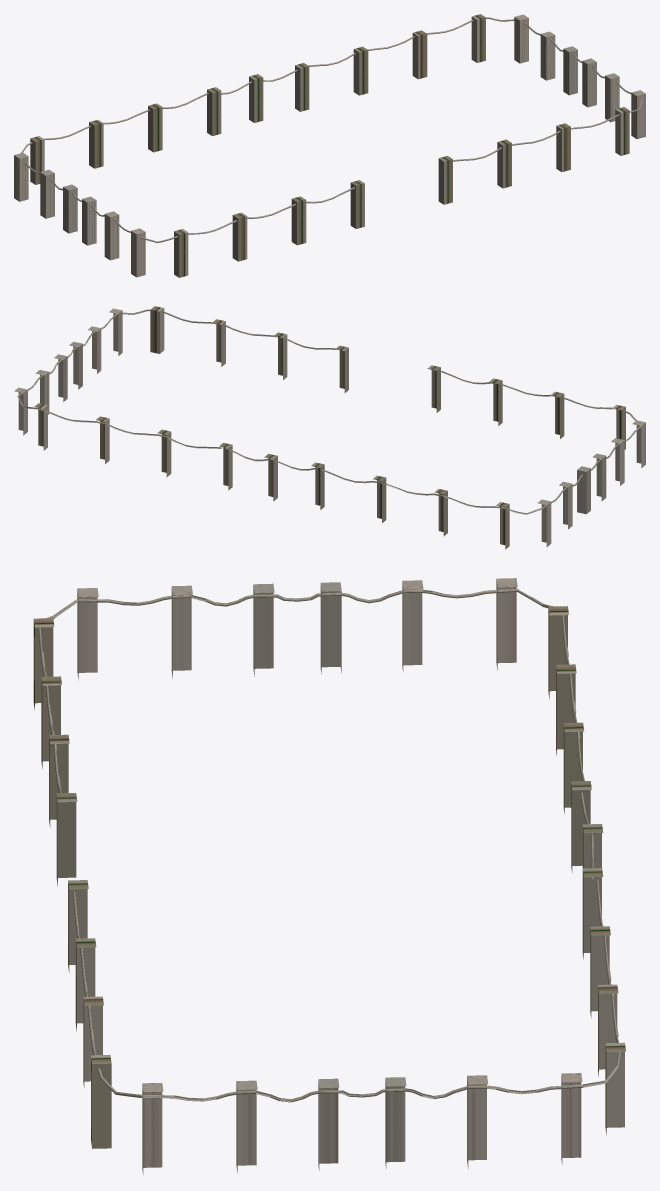
File: vert.002_lev3.glb
3 views of the same model, one above another, from view 1: azimuth 30°, elevation 25°; view 2: azimuth 150°, elevation 25°; view 3: azimuth 270°, elevation 25° (orthographic). The views are drawn at different scales.
Parts seen in each view (by area): view 1: vert.002_lev3; view 2: vert.002_lev3; view 3: vert.002_lev3.
Boxes of the visible parts, <box> form: vert.002_lev3: <box>14,14,645,277</box>; vert.002_lev3: <box>14,306,645,549</box>; vert.002_lev3: <box>33,578,625,1174</box>.
Size of the model in its own units: 7.4 by 0.568 by 3.6.
Materials: 1 (1 with a texture image).
